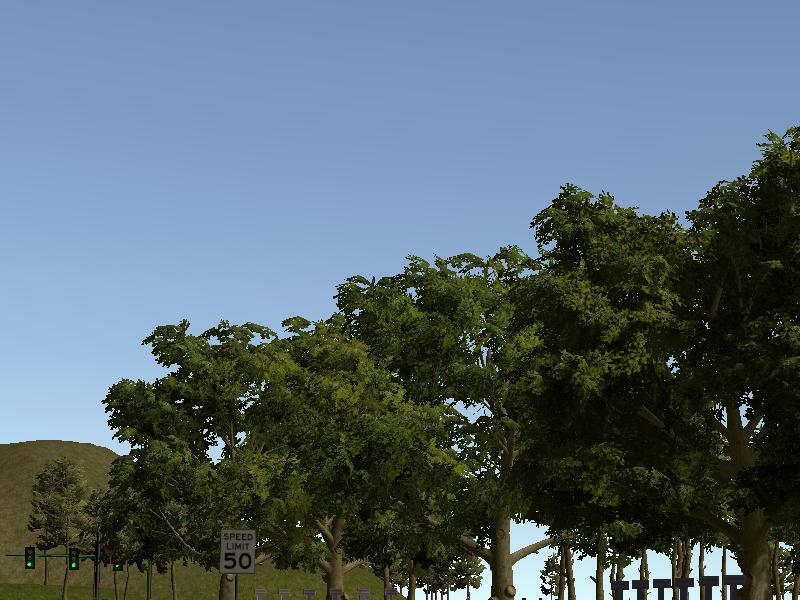Green: (68, 548, 79, 569), (25, 547, 35, 567)
